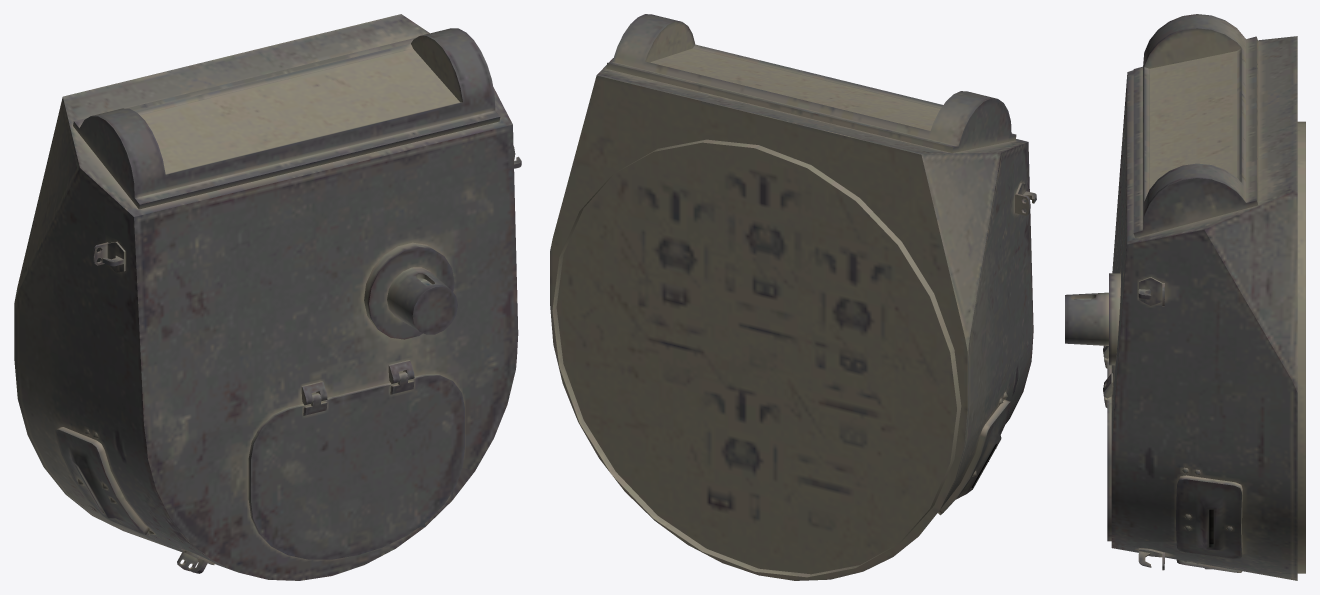
The model's file is Turret_01.glb.
3 renders of one model, left to right at view 1: azimuth 30°, elevation 25°; view 2: azimuth 150°, elevation 25°; view 3: azimuth 270°, elevation 25°, orthographic. The views are drawn at different scales.
Parts seen in each view (by area): view 1: set_0_group_0; view 2: set_0_group_0; view 3: set_0_group_0.
Boxes of the visible parts, <box> form: set_0_group_0: <box>14,14,521,580</box>; set_0_group_0: <box>550,14,1036,580</box>; set_0_group_0: <box>1065,14,1305,580</box>.
Size of the model in its own units: 1.13 by 1.24 by 0.5839.
Materials: 1 (1 with a texture image).
